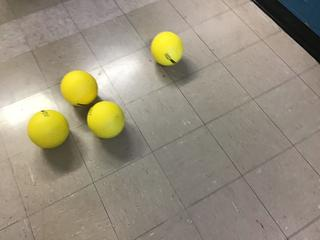power_cell: (26, 109, 75, 151), (87, 100, 127, 141), (59, 70, 98, 109), (150, 30, 185, 71)
